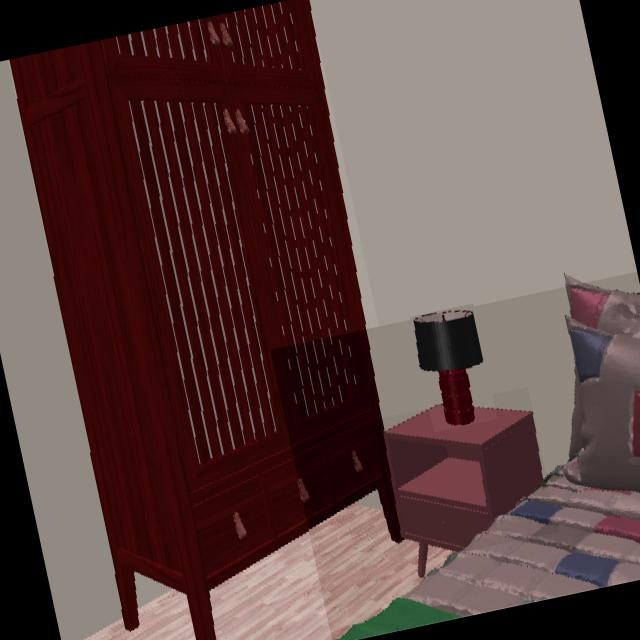bed: (340, 285, 640, 640)
lamp: (413, 307, 485, 426)
nighttable: (385, 404, 545, 552)
wardrobe: (10, 0, 398, 640)
